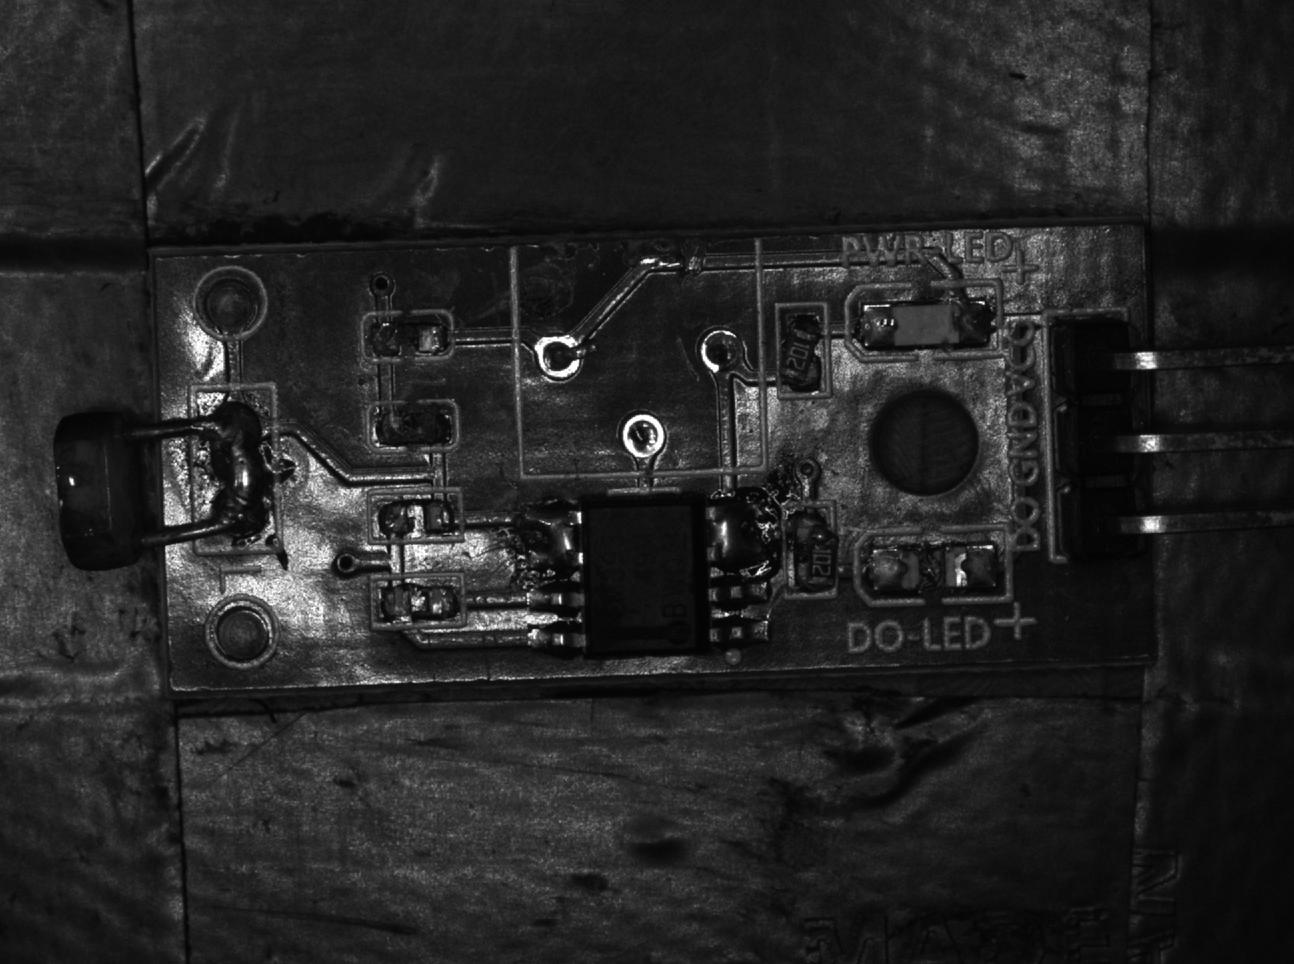bridge: (189, 385, 278, 553), (710, 495, 774, 575), (514, 505, 583, 576)
lifted: (777, 303, 831, 397), (786, 508, 840, 600)
miss: (369, 573, 466, 629), (365, 491, 465, 544), (365, 401, 464, 451), (363, 311, 453, 361)
